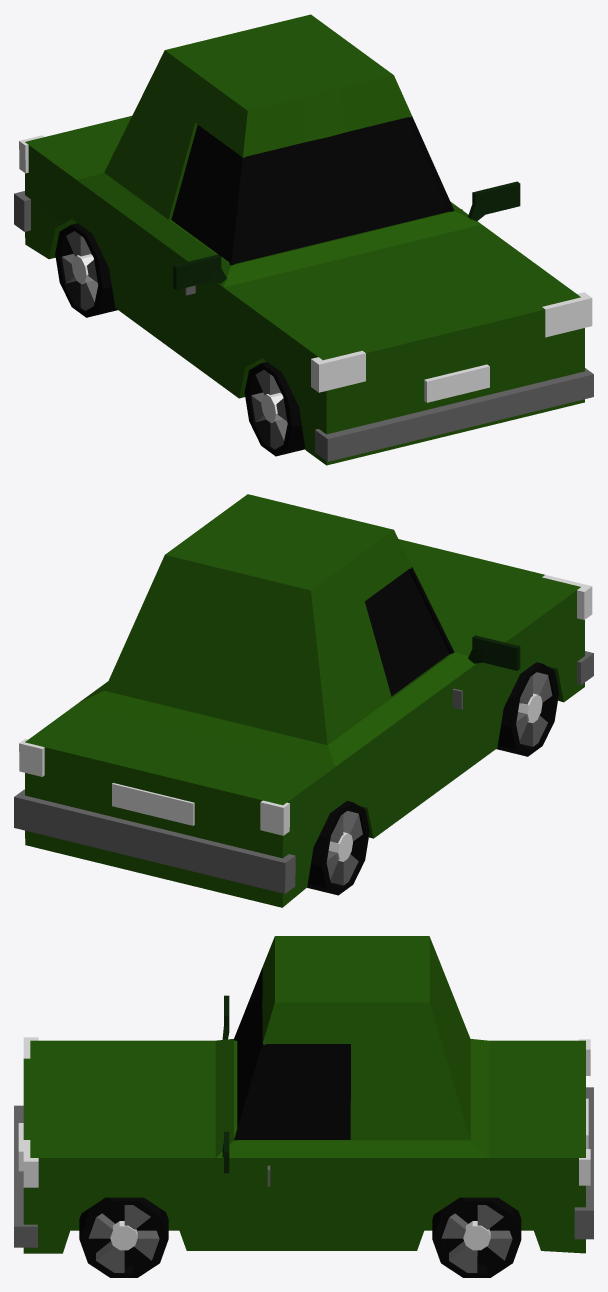
File: Car1.fbx
3 renders of one model, top to bottom at view 1: azimuth 30°, elevation 25°; view 2: azimuth 150°, elevation 25°; view 3: azimuth 270°, elevation 25°, orthographic. The views are drawn at different scales.
Parts seen in each view (by area): view 1: Cube; view 2: Cube; view 3: Cube.
Boxes of the visible parts, x1,y1,x2,y2 form: Cube: (14,14,593,465); Cube: (14,494,593,907); Cube: (14,936,593,1277).
Size of the model in its own units: 266 by 197 by 417.
